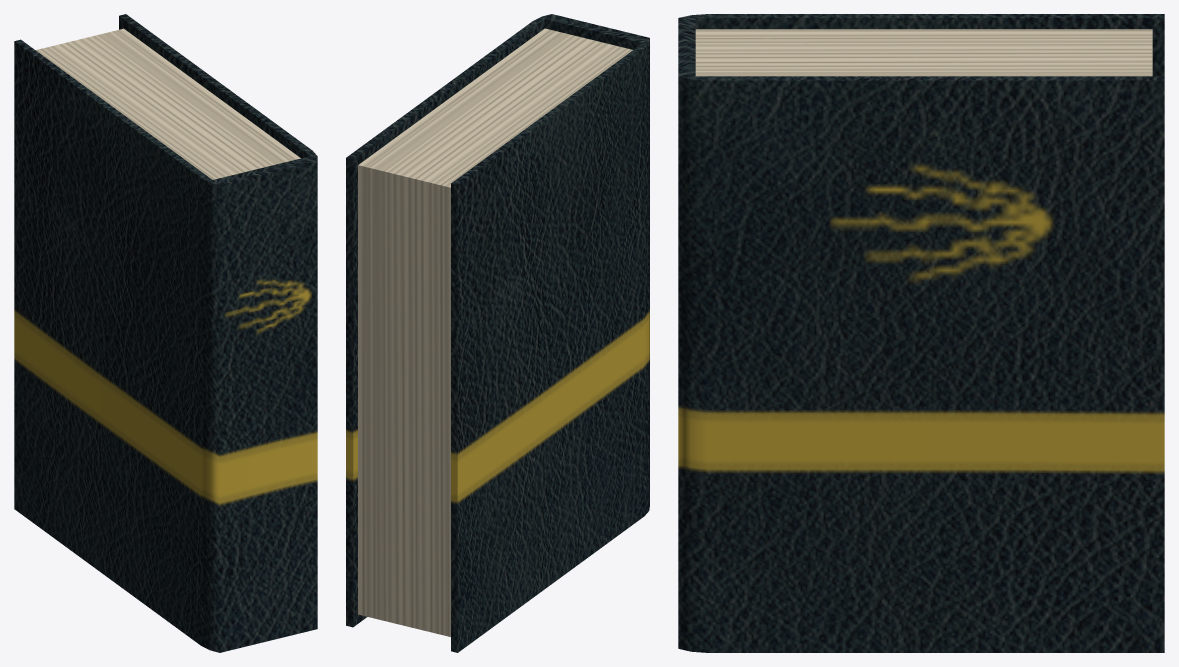
The model's file is book_black.fbx.
3 views of the same model, side by side, from view 1: azimuth 30°, elevation 25°; view 2: azimuth 150°, elevation 25°; view 3: azimuth 270°, elevation 25° (orthographic). The views are drawn at different scales.
Parts seen in each view (by area): view 1: book_blk; view 2: book_blk; view 3: book_blk.
Part boxes in pixels (x1,y1,x2,y2): book_blk: (14, 14, 317, 652); book_blk: (346, 14, 649, 652); book_blk: (678, 14, 1164, 652).
Bounding box in the file's own units: 7.9 × 31.6 × 24.34.
